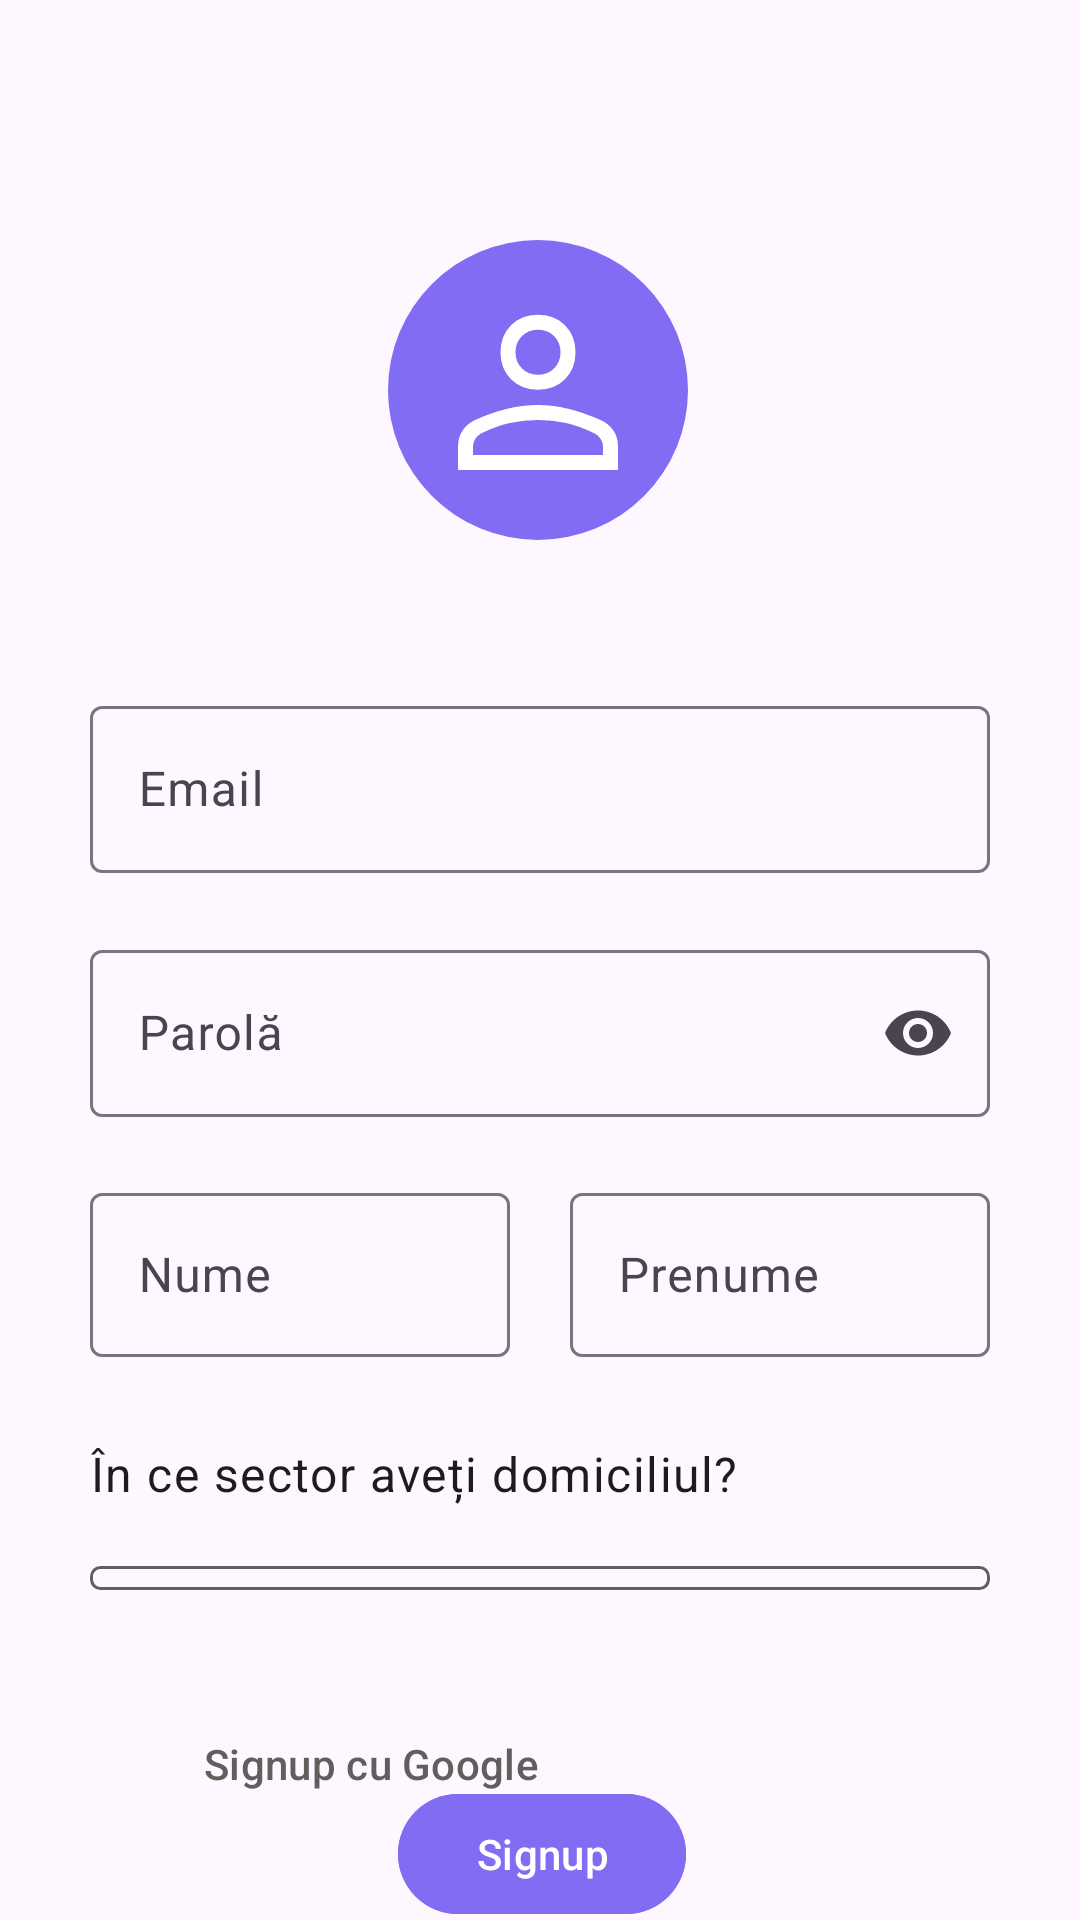

Icons on this 1080w x 1920h Android screen, each with the point to tap as [x,y]:
profile: [538,390]
